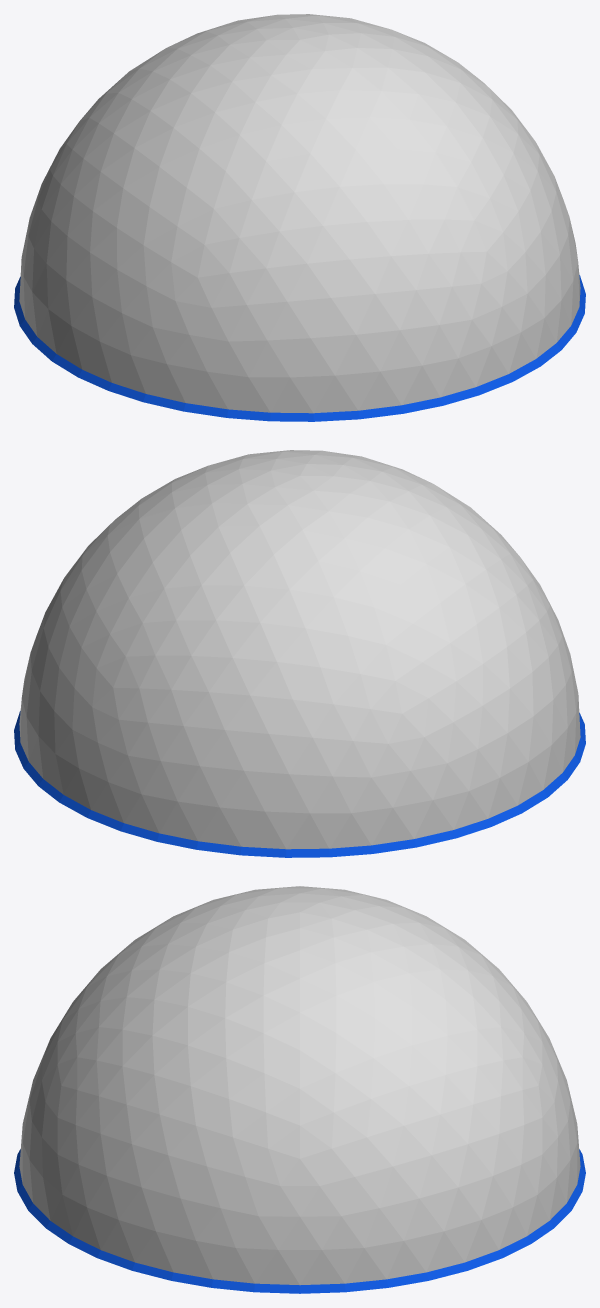
Rendered from MediumDome.fbx.
3 renders of one model, top to bottom at view 1: azimuth 30°, elevation 25°; view 2: azimuth 150°, elevation 25°; view 3: azimuth 270°, elevation 25°, orthographic.
Parts seen in each view (by area): view 1: MediumDome; view 2: MediumDome; view 3: MediumDome.
Part boxes in pixels (x1,y1,x2,y2): MediumDome: (14,14,585,421); MediumDome: (14,450,585,857); MediumDome: (14,886,585,1293).
Bounding box in the file's own units: 612 × 308 × 612.
